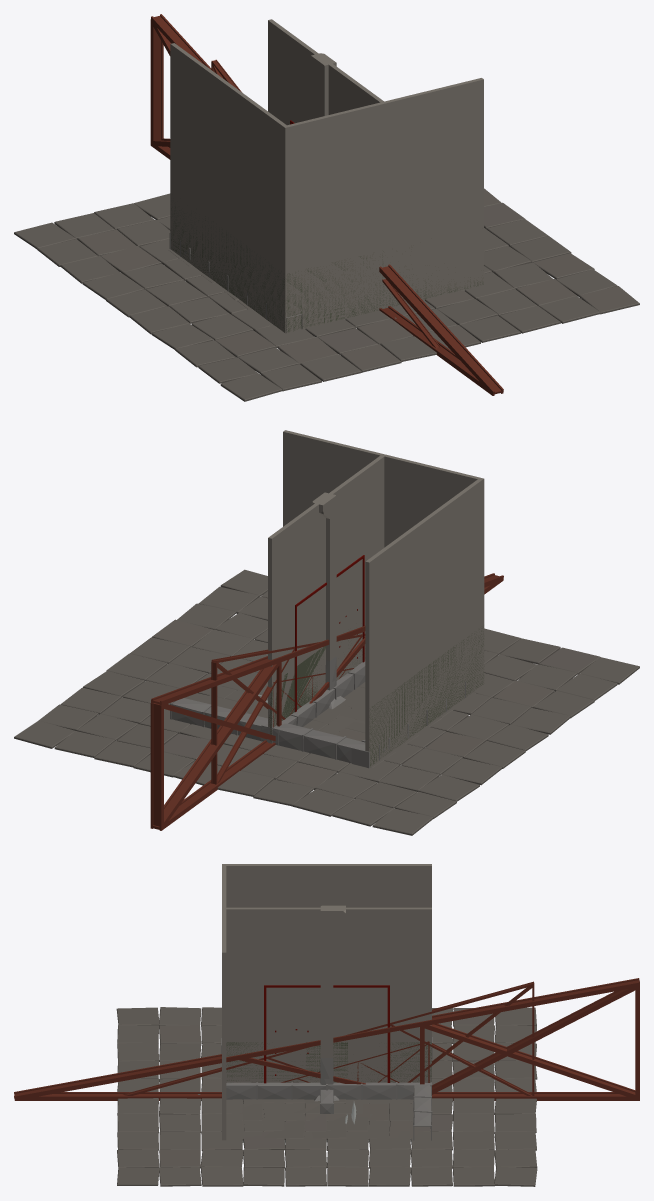
The model's file is Buildings.fbx.
3 renders of one model, top to bottom at view 1: azimuth 30°, elevation 25°; view 2: azimuth 150°, elevation 25°; view 3: azimuth 270°, elevation 25°, orthographic. The views are drawn at different scales.
Parts seen in each view (by area): view 1: Wall_UP_Corner_IN_5M, Slab_Floor_10M, Wall_Corner_OUT_5M, Metal_Frame_15M, Wall_Door_1M, Wall_UP_Window_5M, Wall_UP_5M, Metal_Frame_10M, Wall_Door_5M, Pillar_02; view 2: Slab_Floor_10M, Wall_UP_Corner_IN_5M, Wall_Corner_OUT_5M, Wall_UP_Window_5M, Metal_Frame_15M, Wall_UP_5M, Vent_Turn, Wall_Door_5M, Wall_Door_1M, Wall_Window_5M, Wall_5M, Wall_Corner_IN_5M (+6 smaller); view 3: Slab_Floor_10M, Wall_Door_1M, Wall_UP_5M, Metal_Frame_15M, Wall_UP_Window_5M, Wall_UP_Corner_IN_5M, Wall_Door_5M, Slab_Floor_5M, Wall_Corner_IN_5M, Wall_5M, Vent_Straigh, Metal_Frame_10M (+7 smaller).
Part boxes in pixels (bbox=[...]): Wall_UP_Corner_IN_5M: bbox=[170, 43, 483, 332]; Slab_Floor_10M: bbox=[14, 188, 639, 401]; Wall_Corner_OUT_5M: bbox=[170, 45, 483, 332]; Metal_Frame_15M: bbox=[150, 14, 503, 395]; Wall_Door_1M: bbox=[268, 21, 376, 124]; Wall_UP_Window_5M: bbox=[268, 19, 386, 308]; Wall_UP_5M: bbox=[268, 21, 378, 114]; Metal_Frame_10M: bbox=[211, 59, 441, 348]; Wall_Door_5M: bbox=[268, 25, 383, 291]; Pillar_02: bbox=[318, 58, 336, 117]; Slab_Floor_10M: bbox=[14, 569, 639, 835]; Wall_UP_Corner_IN_5M: bbox=[283, 430, 484, 766]; Wall_Corner_OUT_5M: bbox=[283, 432, 484, 766]; Wall_UP_Window_5M: bbox=[268, 454, 385, 743]; Metal_Frame_15M: bbox=[150, 573, 503, 830]; Wall_UP_5M: bbox=[272, 457, 384, 724]; Vent_Turn: bbox=[170, 681, 465, 768]; Wall_Door_5M: bbox=[268, 459, 383, 722]; Wall_Door_1M: bbox=[272, 460, 382, 724]; Wall_Window_5M: bbox=[268, 531, 383, 741]; Wall_5M: bbox=[272, 458, 383, 674]; Wall_Corner_IN_5M: bbox=[283, 433, 476, 751]; Slab_Floor_10M: bbox=[116, 1007, 537, 1186]; Wall_Door_1M: bbox=[226, 909, 431, 1082]; Wall_UP_5M: bbox=[226, 909, 431, 1082]; Metal_Frame_15M: bbox=[14, 978, 639, 1100]; Wall_UP_Window_5M: bbox=[222, 907, 431, 1082]; Wall_UP_Corner_IN_5M: bbox=[222, 864, 431, 1140]; Wall_Door_5M: bbox=[226, 910, 431, 1082]; Slab_Floor_5M: bbox=[221, 1099, 429, 1140]; Wall_Corner_IN_5M: bbox=[222, 866, 431, 1138]; Wall_5M: bbox=[226, 909, 431, 1082]; Vent_Straigh: bbox=[226, 1082, 431, 1099]; Metal_Frame_10M: bbox=[122, 981, 534, 1095].
Size of the model in its own units: 1003 by 511 by 1492.
Materials: 7 (7 with a texture image).
